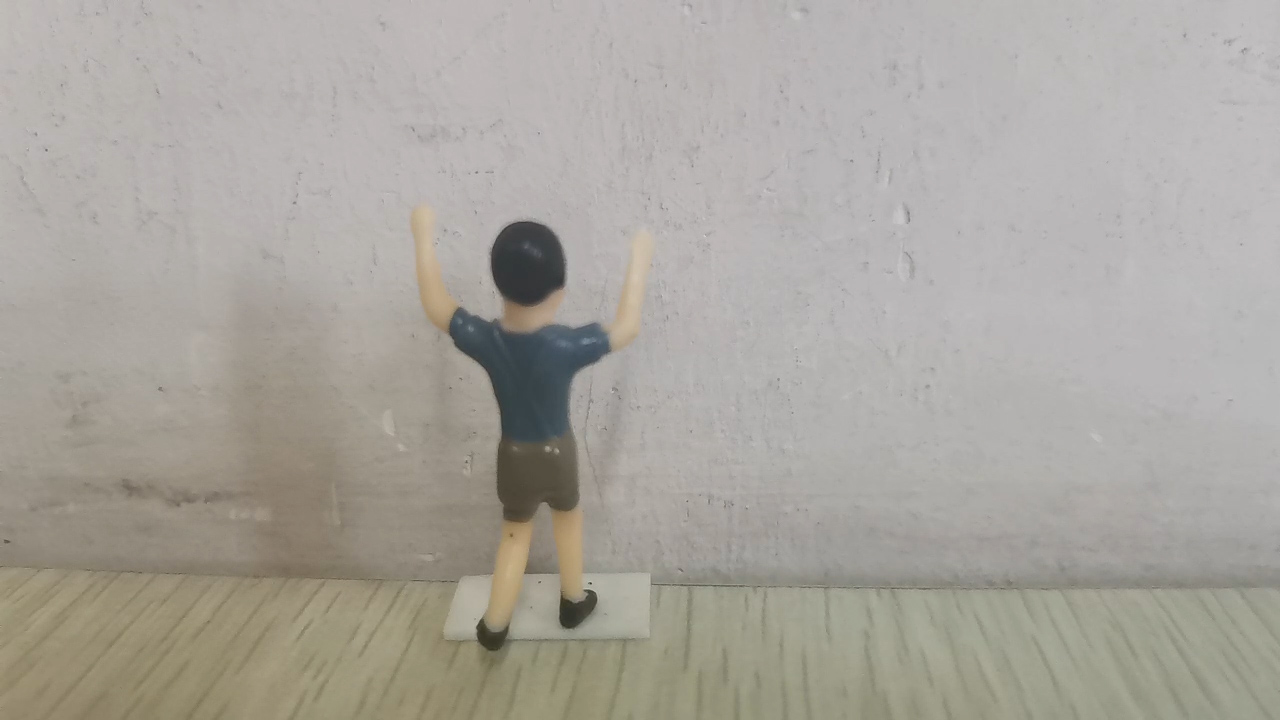person: (407, 197, 657, 654)
